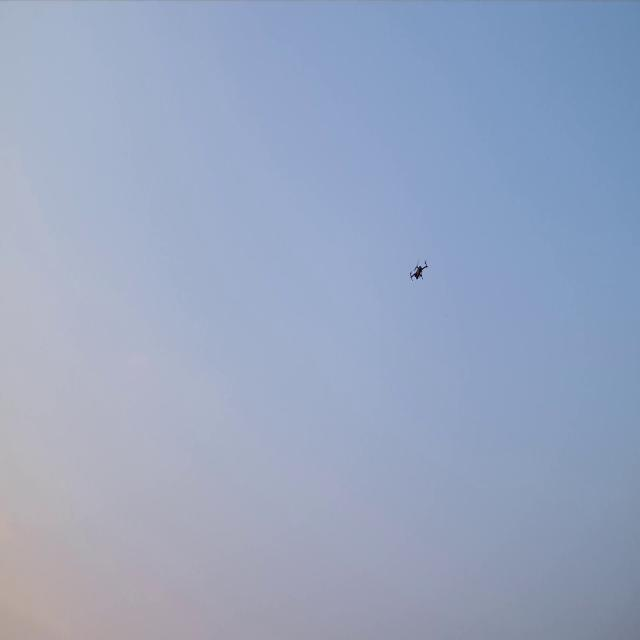UAV: (410, 262, 427, 280)
